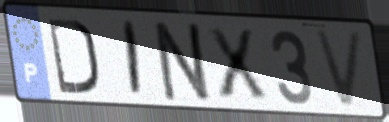3: (269, 28, 314, 107)
D: (45, 15, 100, 97)
I: (122, 18, 144, 100)
N: (152, 19, 215, 105)
V: (311, 27, 366, 111)
X: (203, 25, 271, 102)
